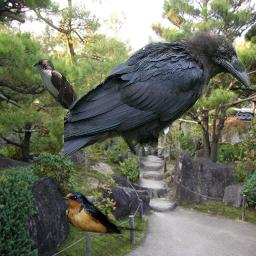Crow: (64, 29, 252, 159)
Cuckoo: (32, 59, 94, 141)
Swallow: (61, 192, 145, 234)
